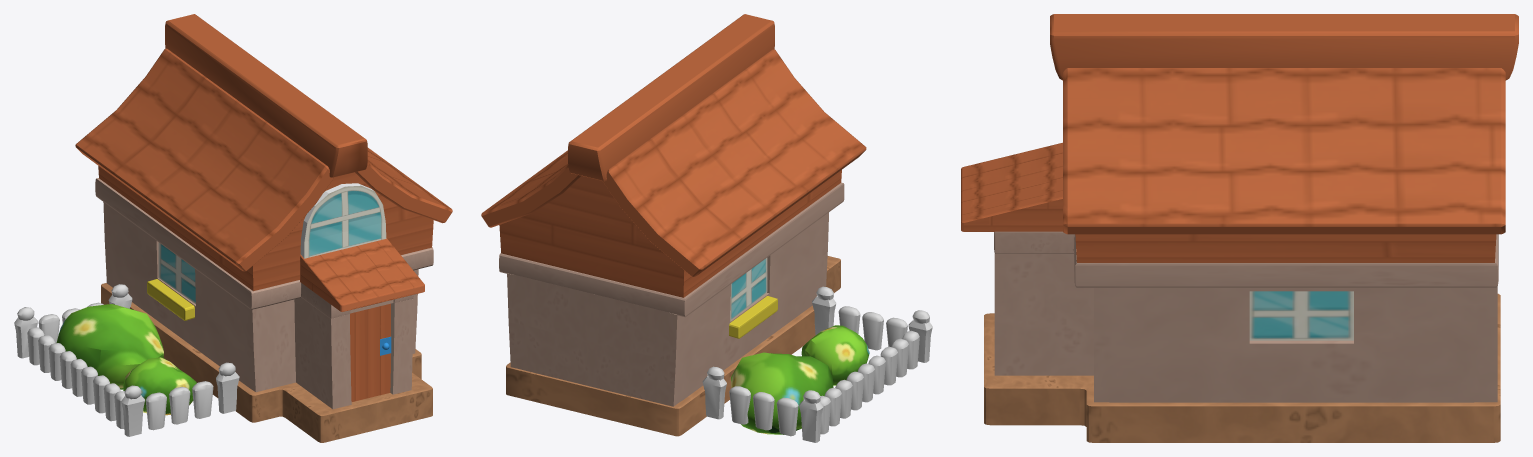
Rendered from House 3 fbx.fbx.
3 views of the same model, side by side, from view 1: azimuth 30°, elevation 25°; view 2: azimuth 150°, elevation 25°; view 3: azimuth 270°, elevation 25° (orthographic). The views are drawn at different scales.
Parts seen in each view (by area): view 1: TOP ROOF.001, TOP ROOF.006, TOP ROOF.002, TOP ROOF.010, TOP ROOF.008, TOP ROOF.009, TOP ROOF.003, TOP ROOF.005, TOP ROOF.007; view 2: TOP ROOF.001, TOP ROOF.006, TOP ROOF.002, TOP ROOF.010, TOP ROOF.008, TOP ROOF.005, TOP ROOF.009; view 3: TOP ROOF.001, TOP ROOF.006, TOP ROOF.008, TOP ROOF.005, TOP ROOF.002, TOP ROOF.003.
Part boxes in pixels (bbox=[...]): TOP ROOF.001: bbox=[75, 14, 452, 271]; TOP ROOF.006: bbox=[103, 202, 418, 409]; TOP ROOF.002: bbox=[98, 166, 433, 291]; TOP ROOF.010: bbox=[14, 284, 239, 436]; TOP ROOF.008: bbox=[101, 283, 432, 442]; TOP ROOF.009: bbox=[56, 304, 196, 415]; TOP ROOF.003: bbox=[300, 238, 424, 311]; TOP ROOF.005: bbox=[95, 178, 433, 318]; TOP ROOF.007: bbox=[350, 303, 391, 401]; TOP ROOF.001: bbox=[481, 14, 866, 276]; TOP ROOF.006: bbox=[507, 212, 828, 406]; TOP ROOF.002: bbox=[499, 170, 841, 297]; TOP ROOF.010: bbox=[702, 286, 932, 442]; TOP ROOF.008: bbox=[506, 256, 840, 436]; TOP ROOF.005: bbox=[499, 182, 844, 317]; TOP ROOF.009: bbox=[731, 325, 869, 434]; TOP ROOF.001: bbox=[1050, 14, 1518, 234]; TOP ROOF.006: bbox=[994, 253, 1497, 402]; TOP ROOF.008: bbox=[984, 293, 1500, 442]; TOP ROOF.005: bbox=[994, 231, 1498, 287]; TOP ROOF.002: bbox=[1075, 234, 1496, 262]; TOP ROOF.003: bbox=[961, 142, 1062, 231].
Size of the model in its own units: 274 by 250 by 321.
1 material, 1 textured.
